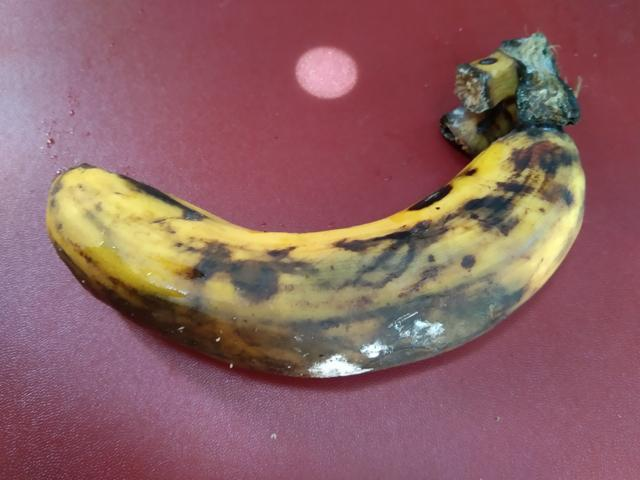rotten: (30, 123, 603, 403)
